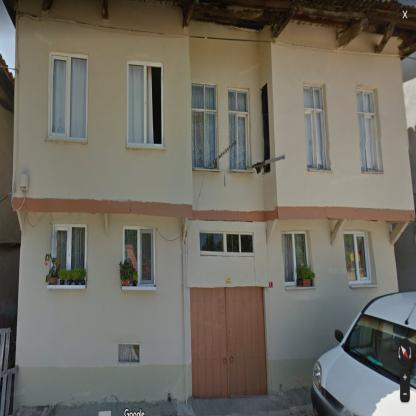door: (190, 287, 267, 397)
window: (48, 52, 88, 142), (127, 61, 163, 148), (192, 84, 218, 168), (303, 85, 327, 168), (122, 226, 155, 286), (357, 90, 379, 170), (228, 88, 249, 170), (51, 225, 86, 269), (344, 232, 371, 284), (283, 231, 307, 285), (200, 232, 254, 254)
